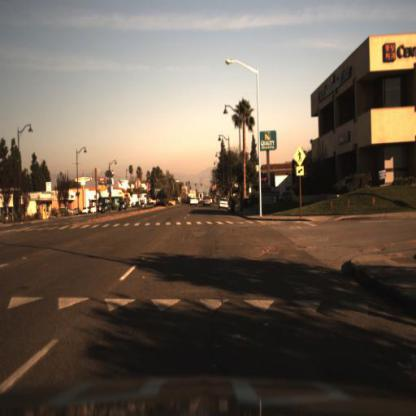car: (220, 199, 230, 211), (101, 204, 112, 214), (119, 203, 128, 213), (204, 197, 212, 207), (83, 208, 92, 216), (91, 206, 99, 214), (191, 198, 198, 207), (141, 203, 146, 210), (183, 199, 188, 205)
